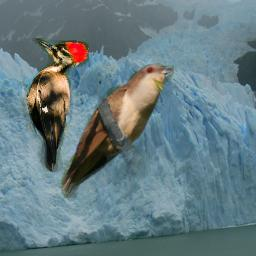Cuckoo: (56, 63, 174, 202)
Woodpecker: (20, 38, 89, 172)
